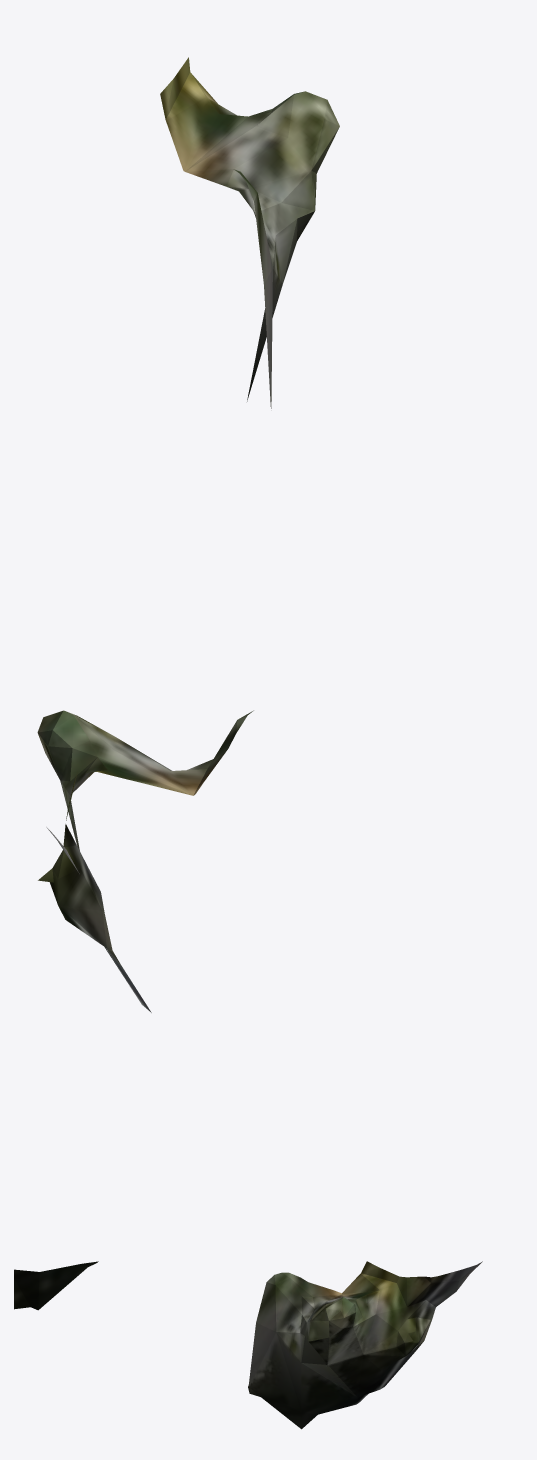
The picture shows the model from 3 angles, top to bottom: view 1: azimuth 30°, elevation 25°; view 2: azimuth 150°, elevation 25°; view 3: azimuth 270°, elevation 25°; orthographic projection. The views are drawn at different scales.
Bounding box in the file's own units: 0.2952 × 0.6704 × 1.67.
Materials: 1 (1 with a texture image).
